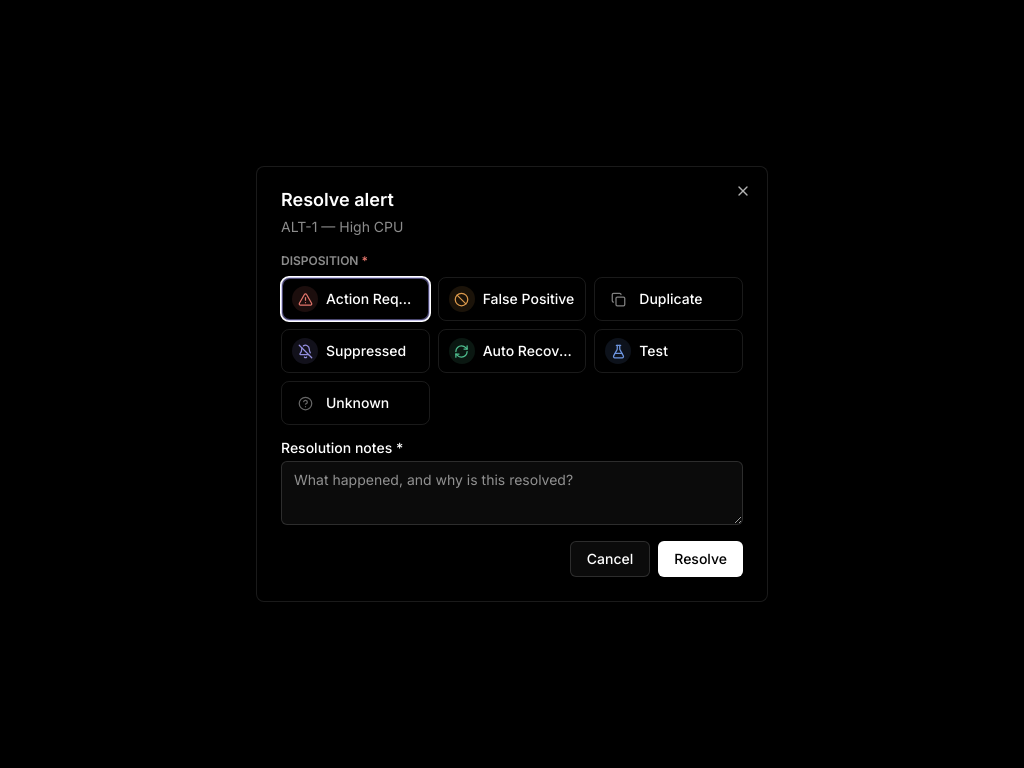
Scenario: SetDispositionDialog › shows validation errors after clicking Resolve with nothing filled
Click the button "Resolve".
click(701, 559)  # box [658,541,743,577]
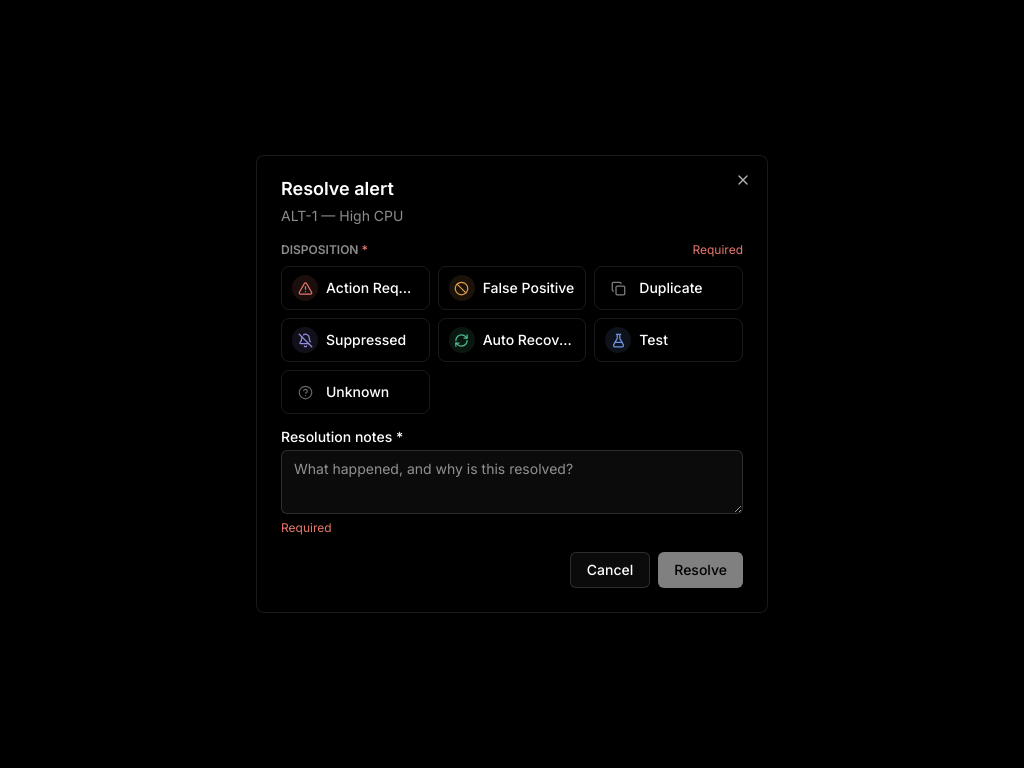
Now the text "Required" in the row of "DISPOSITION" is shown, box [692,242,743,257]
